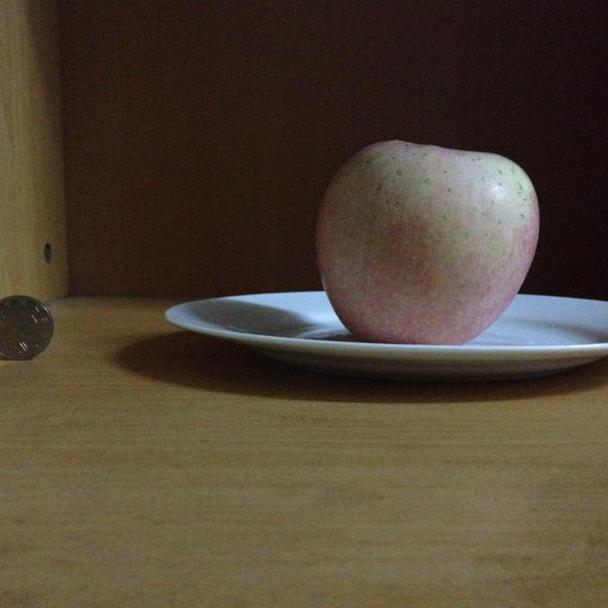apple: (313, 140, 540, 346)
